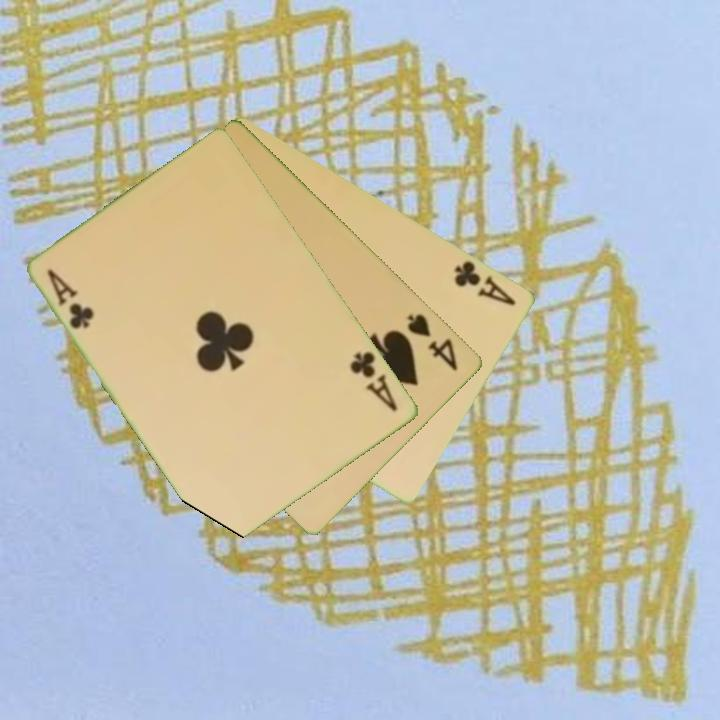4s: (404, 310, 462, 374)
Ac: (346, 348, 401, 415), (44, 265, 98, 333), (451, 257, 520, 309)
